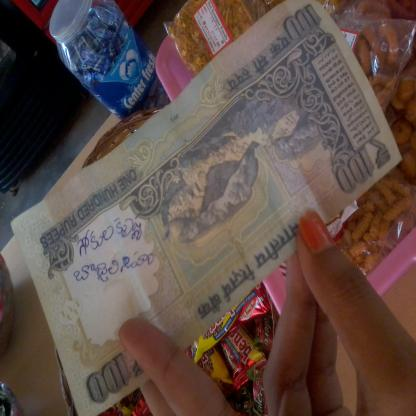Old100Back: (10, 0, 405, 416)
